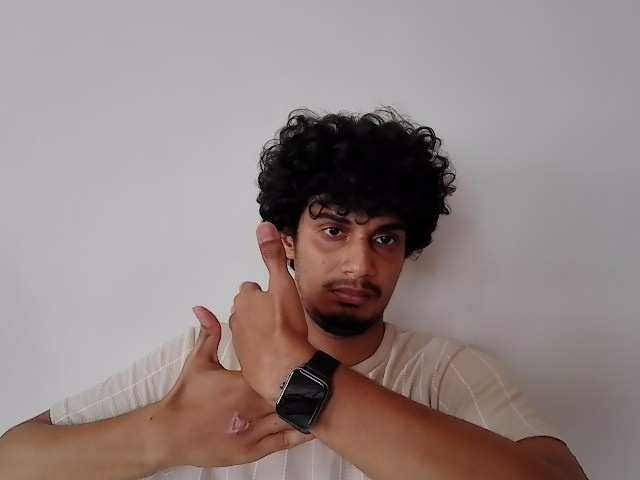work: (164, 223, 348, 459)
